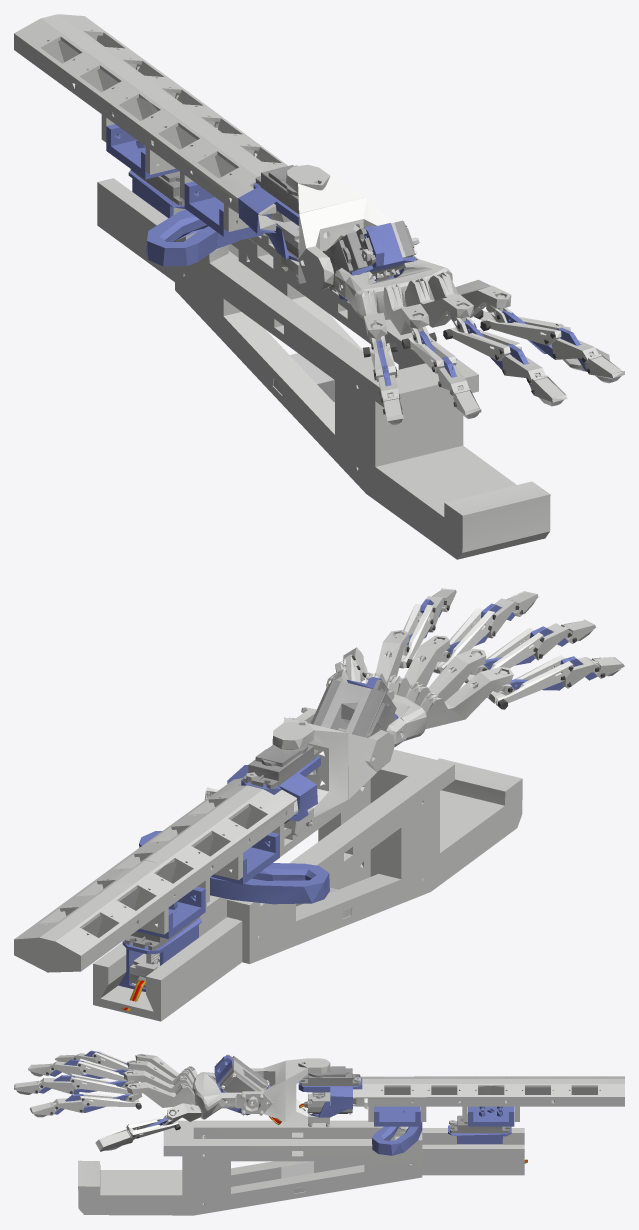
The model's file is symbionHand.glb.
3 views of the same model, one above another, from view 1: azimuth 30°, elevation 25°; view 2: azimuth 150°, elevation 25°; view 3: azimuth 270°, elevation 25° (orthographic). The views are drawn at different scales.
Parts seen in each view (by area): view 1: Symbion_3D_Assets_ShuyangWang; view 2: Symbion_3D_Assets_ShuyangWang; view 3: Symbion_3D_Assets_ShuyangWang.
Boxes of the visible parts, left/top/right/bottom form: Symbion_3D_Assets_ShuyangWang: left=14, top=14, right=624, bottom=559; Symbion_3D_Assets_ShuyangWang: left=14, top=588, right=624, bottom=1021; Symbion_3D_Assets_ShuyangWang: left=14, top=1050, right=624, bottom=1215.
Size of the model in its own units: 1.61 by 1.41 by 5.5.
